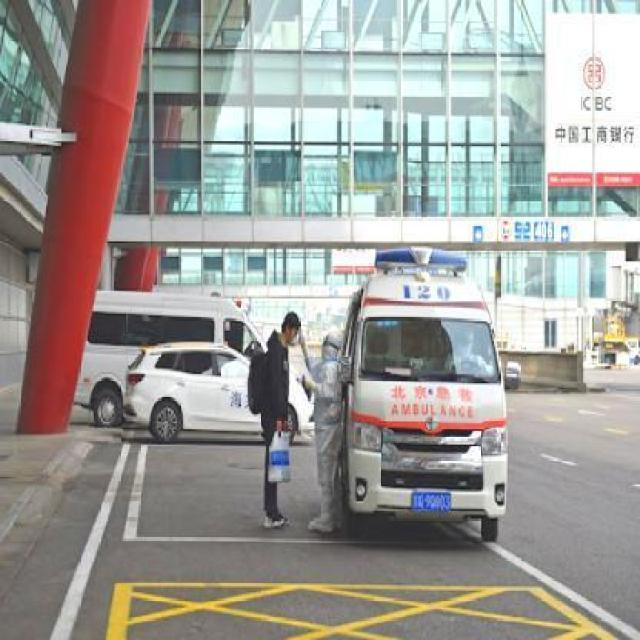emergency: (332, 245, 512, 542)
